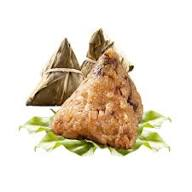zongzi: (51, 48, 142, 148), (27, 38, 82, 105)
